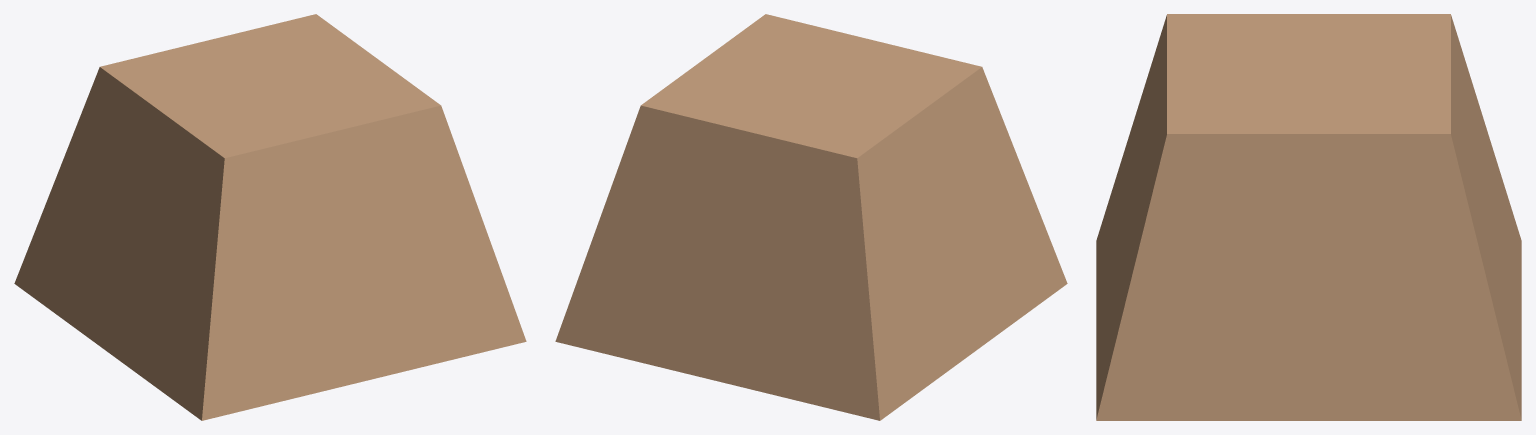
Rendered from DungeonPillar1.fbx.
The picture shows the model from 3 angles, left to right: view 1: azimuth 30°, elevation 25°; view 2: azimuth 150°, elevation 25°; view 3: azimuth 270°, elevation 25°; orthographic projection. The views are drawn at different scales.
Parts seen in each view (by area): view 1: Pillar; view 2: Pillar; view 3: Pillar.
Boxes of the visible parts, x1,y1,x2,y2 form: Pillar: (14, 14, 526, 420); Pillar: (555, 14, 1067, 420); Pillar: (1096, 14, 1521, 420).
Bounding box in the file's own units: 1.5 × 1 × 1.5.
